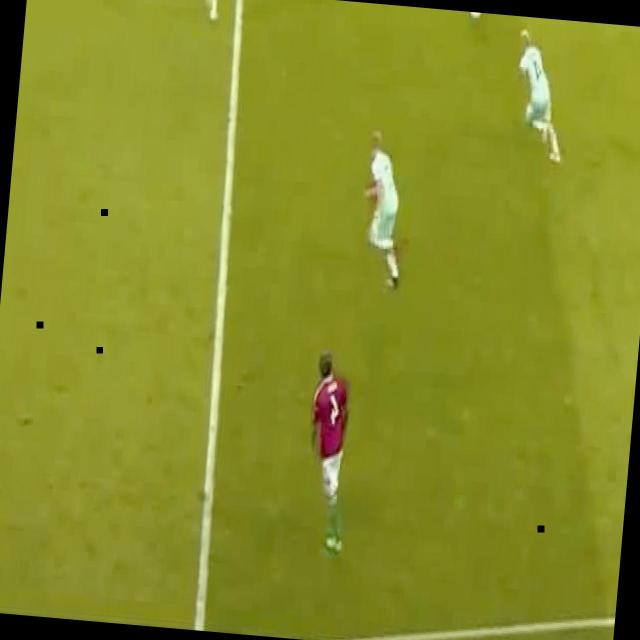ball: (471, 12, 482, 18)
player-white: (299, 348, 361, 554), (355, 127, 415, 290), (508, 28, 571, 163), (201, 0, 232, 20)
